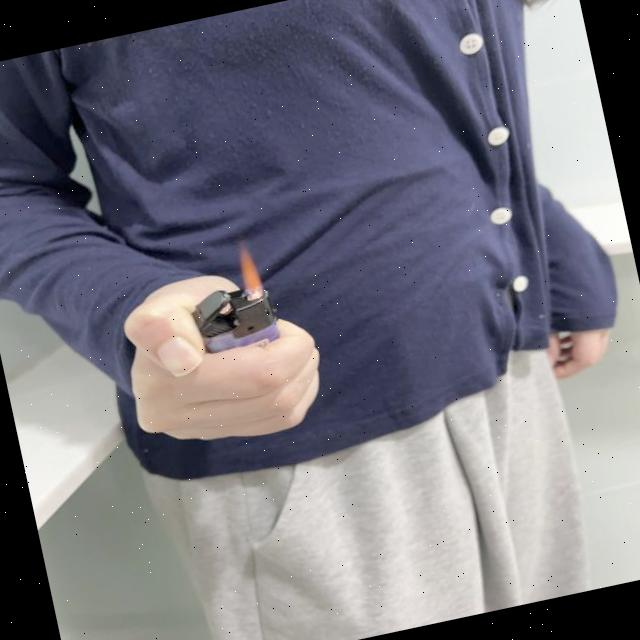fire: (234, 240, 266, 302)
